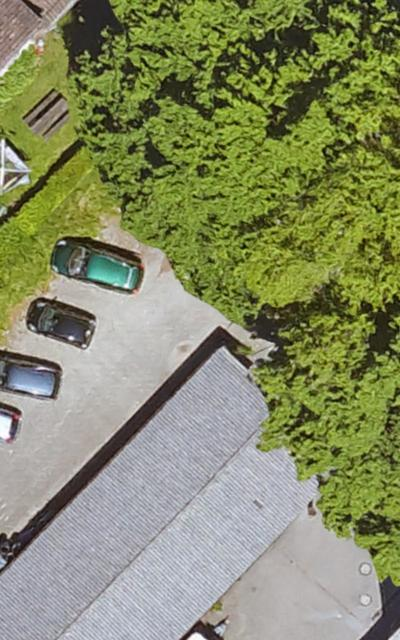tree: (76, 0, 400, 305), (259, 312, 400, 586)
